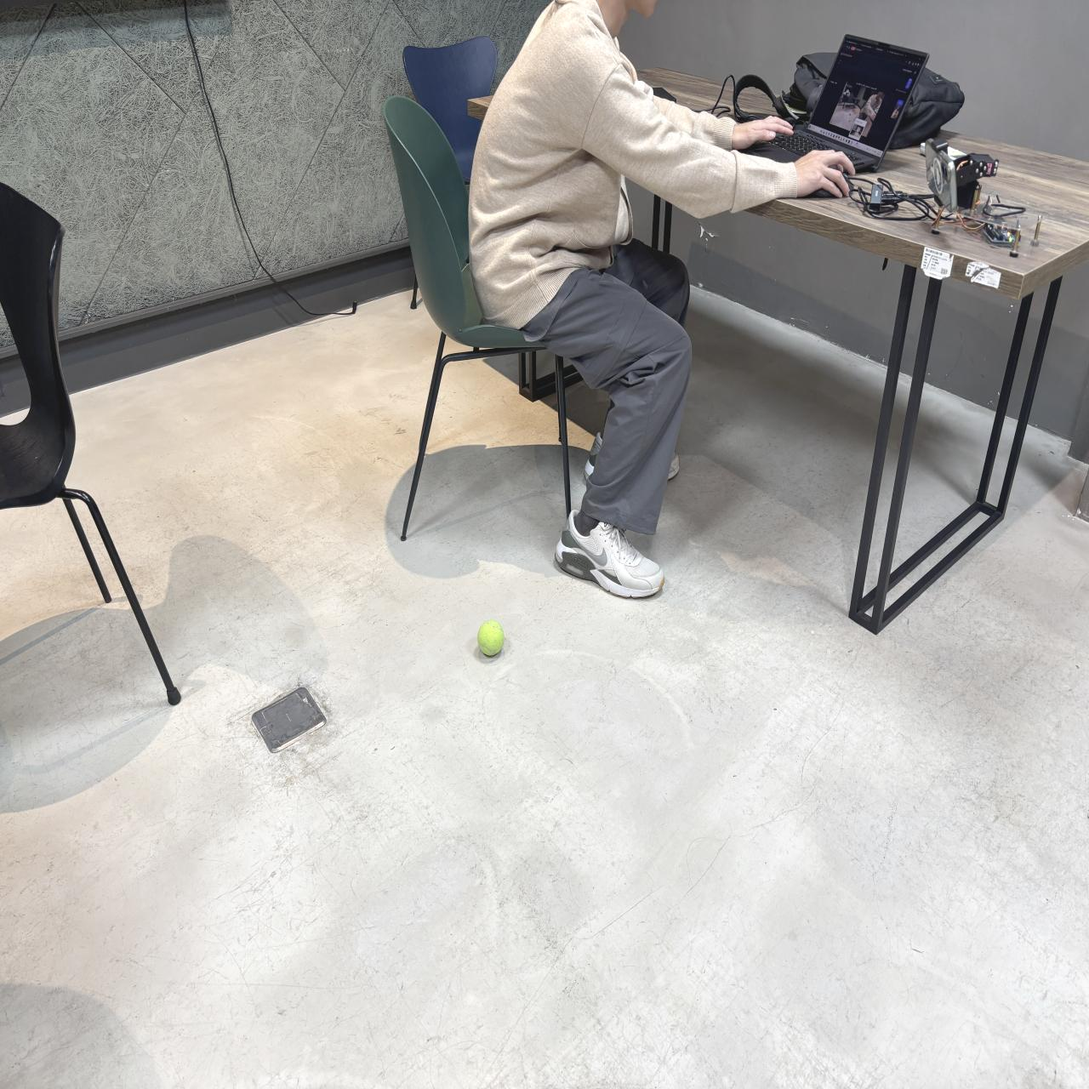person: (470, 0, 853, 596)
tennisball: (478, 622, 504, 657)
